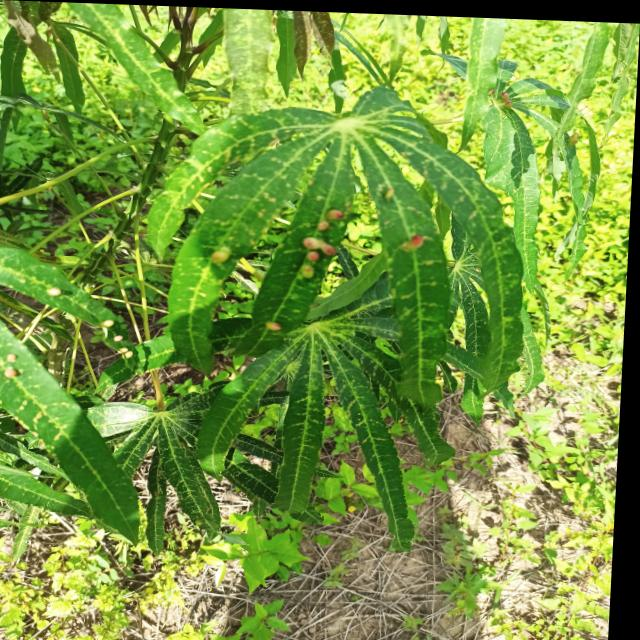Maleza: (222, 516, 305, 588)
Mosca: (294, 236, 341, 286), (98, 315, 138, 365), (314, 205, 352, 233), (0, 338, 22, 386), (481, 83, 520, 109), (400, 228, 431, 258), (202, 243, 235, 265), (259, 315, 283, 338), (43, 284, 72, 302), (378, 183, 399, 206)
